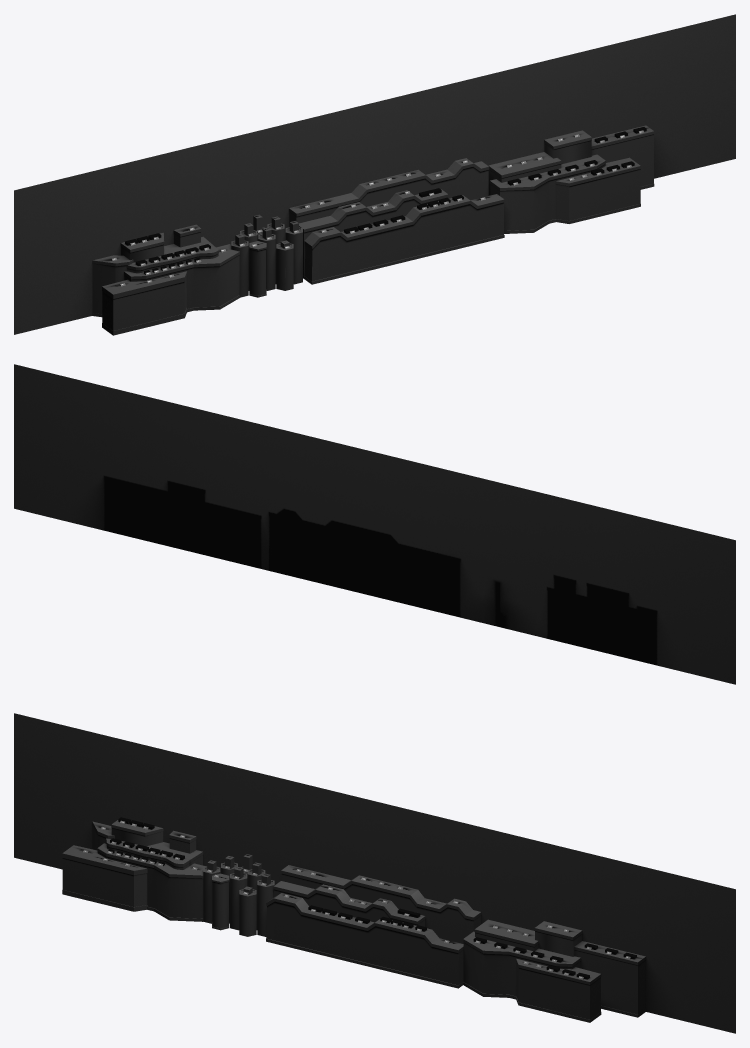
3 views of the same model, one above another, from view 1: azimuth 30°, elevation 25°; view 2: azimuth 150°, elevation 25°; view 3: azimuth 330°, elevation 25° (orthographic).
Parts seen in each view (by area): view 1: zy1; view 2: zy1; view 3: zy1.
Part boxes in pixels (left/top/right/bottom): zy1: left=14, top=14, right=735, bottom=335; zy1: left=14, top=364, right=735, bottom=684; zy1: left=14, top=713, right=735, bottom=1033.
Size of the model in its own units: 299 by 57.25 by 18.25.
8 materials, 8 textured.
